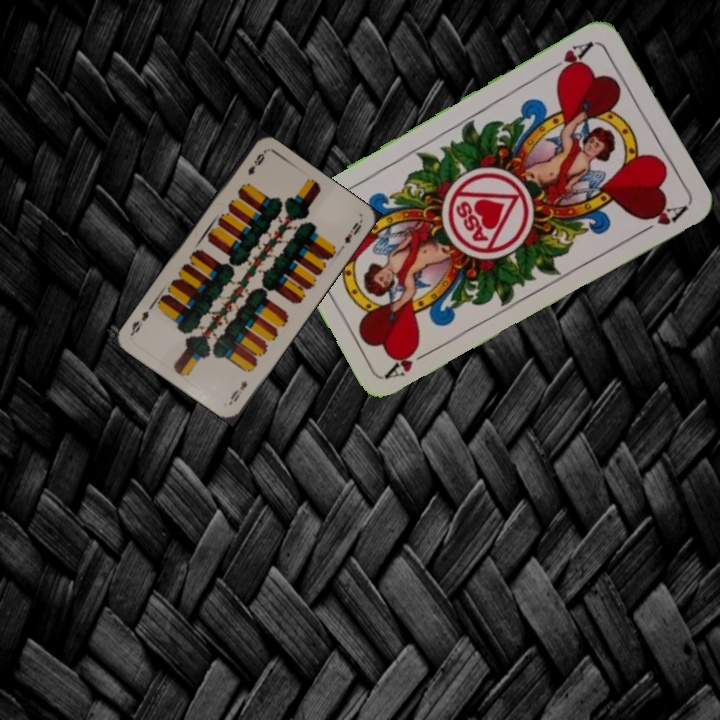E9: (226, 376, 250, 406), (244, 149, 267, 178)
HA: (543, 37, 596, 79), (382, 341, 437, 381)
